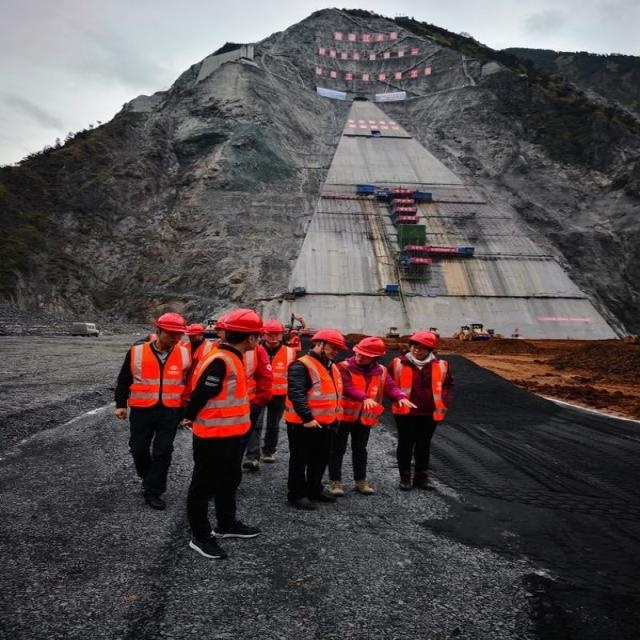Con_Chaleco: (192, 349, 253, 438), (129, 341, 195, 407), (283, 357, 346, 425), (393, 357, 451, 419), (336, 362, 388, 425)
